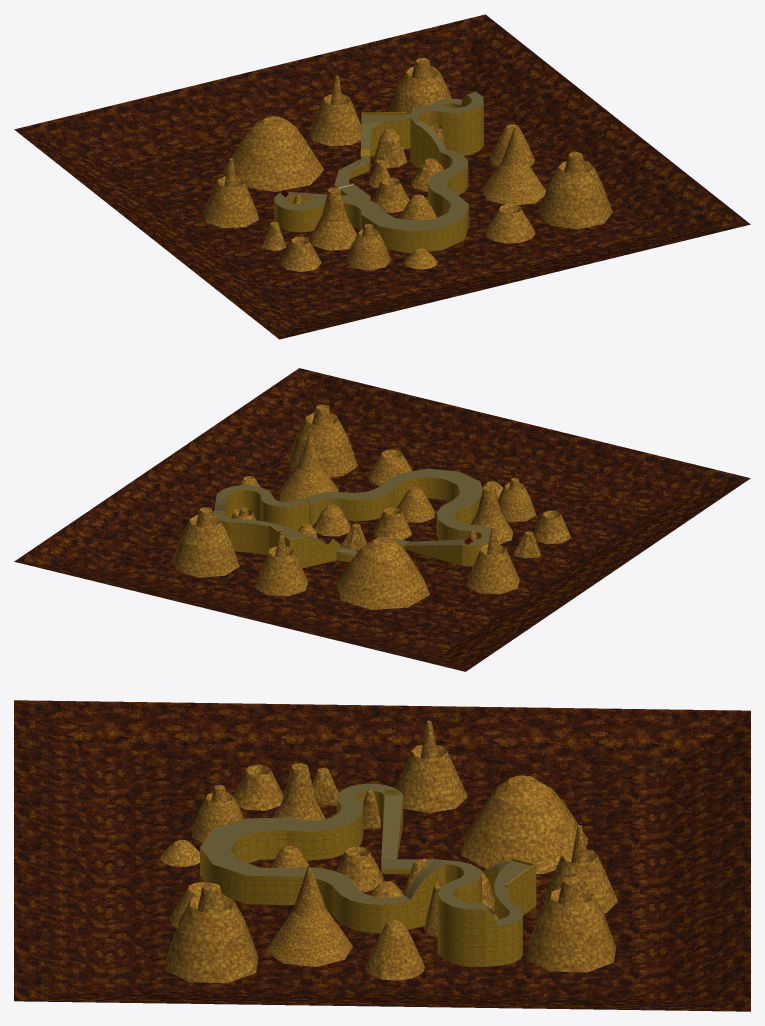
3 views of the same model, one above another, from view 1: azimuth 30°, elevation 25°; view 2: azimuth 150°, elevation 25°; view 3: azimuth 270°, elevation 25° (orthographic). The views are drawn at different scales.
Visible parts, largest first — view 1: mario_circuit-SKP-Material6, mario_circuit-SKP-Material1, mario_circuit-SKP-Material4, mario_circuit-SKP-Material3, mario_circuit-GRP-14908-Material1, mario_circuit-GRP-14311-Material1, mario_circuit-GRP-14312-Material1, mario_circuit-GRP-14313-Material1, mario_circuit-GRP-14315-Material1, mario_circuit-GRP-14310-Material1; view 2: mario_circuit-SKP-Material6, mario_circuit-SKP-Material1, mario_circuit-SKP-Material4, mario_circuit-SKP-Material3, mario_circuit-GRP-14908-Material1, mario_circuit-GRP-14311-Material1, mario_circuit-GRP-14313-Material1, mario_circuit-GRP-14315-Material1, mario_circuit-GRP-14312-Material1, mario_circuit-GRP-14310-Material1; view 3: mario_circuit-SKP-Material6, mario_circuit-SKP-Material4, mario_circuit-SKP-Material1, mario_circuit-SKP-Material3, mario_circuit-GRP-14908-Material1, mario_circuit-GRP-14311-Material1, mario_circuit-GRP-14312-Material1, mario_circuit-GRP-14313-Material1, mario_circuit-GRP-14315-Material1, mario_circuit-GRP-14310-Material1, mario_circuit-GRP-14314-Material1.
Boxes of the visible parts, <box> form: mario_circuit-SKP-Material6: <box>14,14,750,339</box>; mario_circuit-SKP-Material1: <box>262,58,535,271</box>; mario_circuit-SKP-Material4: <box>274,95,483,253</box>; mario_circuit-SKP-Material3: <box>274,91,483,231</box>; mario_circuit-GRP-14908-Material1: <box>223,116,323,191</box>; mario_circuit-GRP-14311-Material1: <box>537,152,612,229</box>; mario_circuit-GRP-14312-Material1: <box>481,129,545,205</box>; mario_circuit-GRP-14313-Material1: <box>203,158,259,228</box>; mario_circuit-GRP-14315-Material1: <box>309,76,361,146</box>; mario_circuit-GRP-14310-Material1: <box>346,224,390,270</box>; mario_circuit-SKP-Material6: <box>14,368,750,671</box>; mario_circuit-SKP-Material1: <box>172,449,571,577</box>; mario_circuit-SKP-Material4: <box>221,477,488,568</box>; mario_circuit-SKP-Material3: <box>213,468,490,555</box>; mario_circuit-GRP-14908-Material1: <box>335,537,429,609</box>; mario_circuit-GRP-14311-Material1: <box>287,404,357,477</box>; mario_circuit-GRP-14313-Material1: <box>466,527,519,594</box>; mario_circuit-GRP-14315-Material1: <box>254,529,307,596</box>; mario_circuit-GRP-14312-Material1: <box>279,435,338,501</box>; mario_circuit-GRP-14310-Material1: <box>498,477,536,522</box>; mario_circuit-SKP-Material6: <box>14,700,750,1011</box>; mario_circuit-SKP-Material4: <box>200,790,536,967</box>; mario_circuit-SKP-Material1: <box>169,763,616,980</box>; mario_circuit-SKP-Material3: <box>200,783,530,925</box>; mario_circuit-GRP-14908-Material1: <box>461,775,588,873</box>; mario_circuit-GRP-14311-Material1: <box>165,883,258,983</box>; mario_circuit-GRP-14312-Material1: <box>266,867,352,966</box>; mario_circuit-GRP-14313-Material1: <box>395,720,467,812</box>; mario_circuit-GRP-14315-Material1: <box>541,825,618,913</box>; mario_circuit-GRP-14310-Material1: <box>191,785,243,842</box>; mario_circuit-GRP-14314-Material1: <box>160,840,199,866</box>.
Size of the model in its own units: 208033 by 25524 by 208065.
7 materials, 6 textured.
